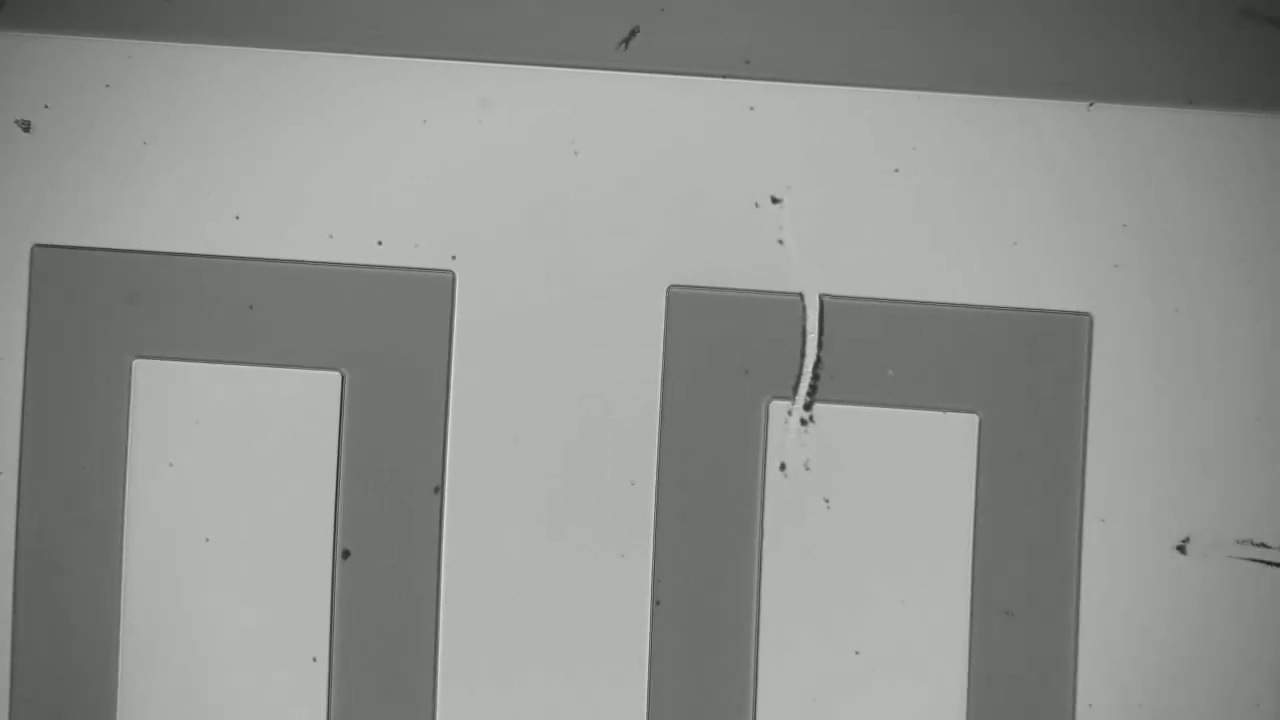Short_circuit: (776, 274, 845, 421)
